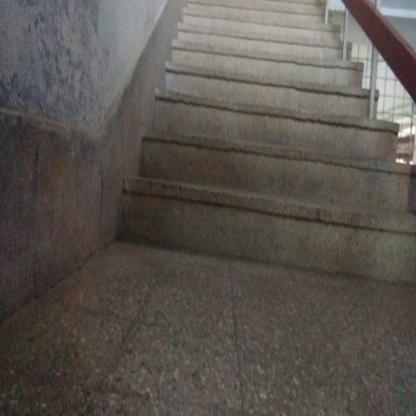stairs: (171, 68, 355, 298)
